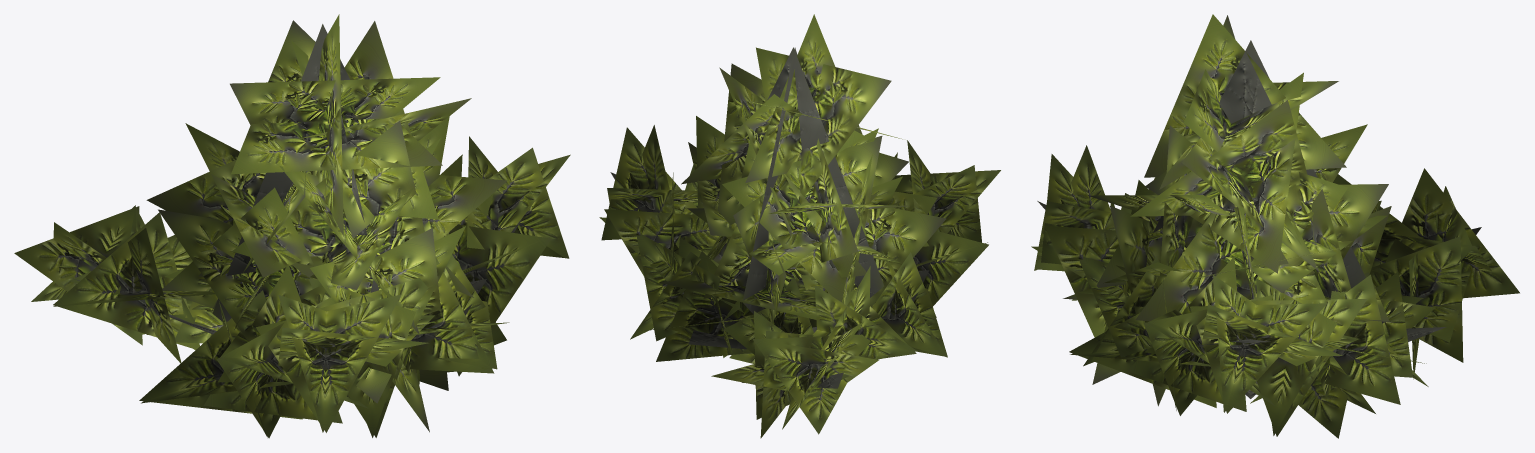
File: BushMed01.FBX
3 views of the same model, side by side, from view 1: azimuth 30°, elevation 25°; view 2: azimuth 150°, elevation 25°; view 3: azimuth 270°, elevation 25° (orthographic). The views are drawn at different scales.
Visible parts, largest first — view 1: Bush_LOD0; view 2: Bush_LOD0; view 3: Bush_LOD0.
Part boxes in pixels (left/top/right/bottom): Bush_LOD0: left=14, top=14, right=570, bottom=438; Bush_LOD0: left=599, top=14, right=1000, bottom=438; Bush_LOD0: left=1031, top=14, right=1519, bottom=438.
Size of what is drawn, in the model's own units: 213 by 188 by 216.
